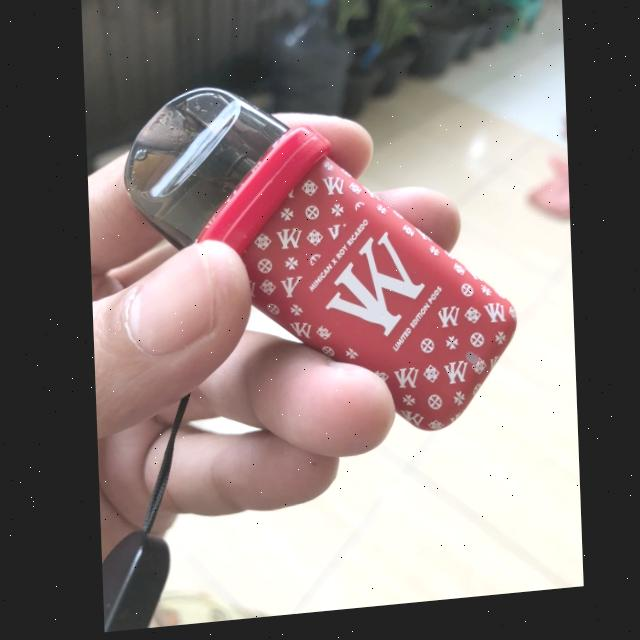vape: (116, 67, 517, 462)
